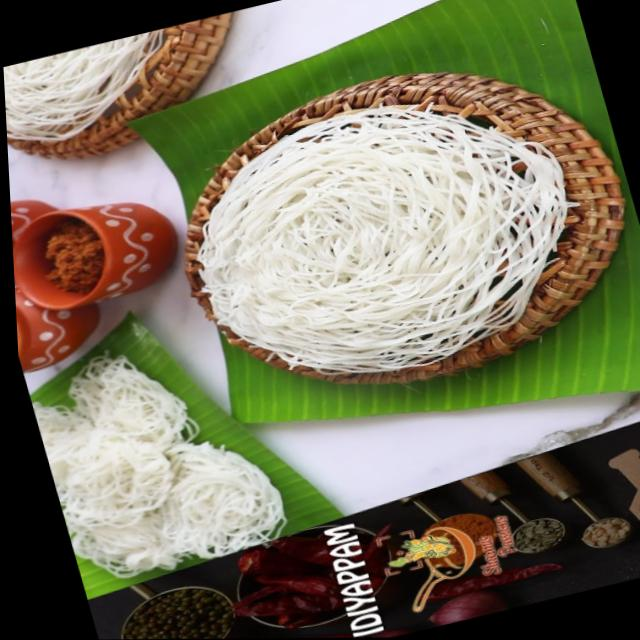IDIYAPPAM: (196, 95, 562, 374), (30, 350, 293, 576), (4, 30, 163, 143)
